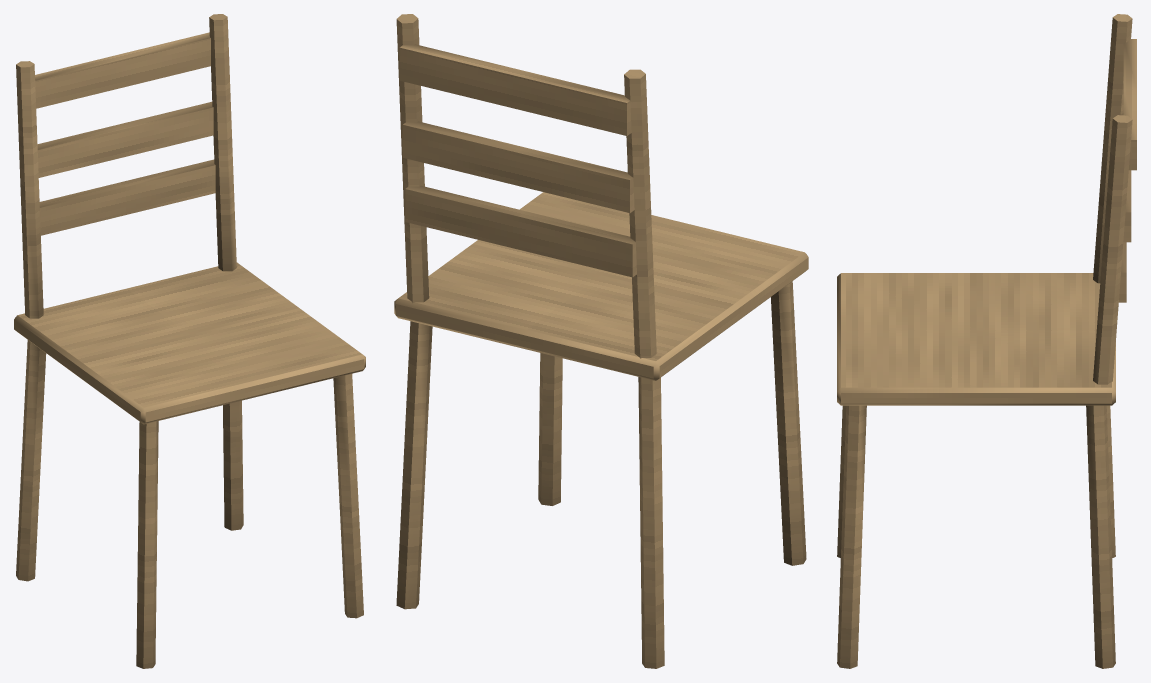
Rendered from chair_wood.glb.
3 renders of one model, left to right at view 1: azimuth 30°, elevation 25°; view 2: azimuth 150°, elevation 25°; view 3: azimuth 270°, elevation 25°, orthographic. The views are drawn at different scales.
Visible parts, largest first — view 1: body; view 2: body; view 3: body.
Part boxes in pixels (x1=…): body: x1=14, y1=14, x2=365, y2=668; body: x1=394, y1=14, x2=808, y2=668; body: x1=837, y1=14, x2=1136, y2=668.
Size of what is drawn, in the model's own units: 0.42 by 0.9018 by 0.4516.
1 material, 1 textured.
